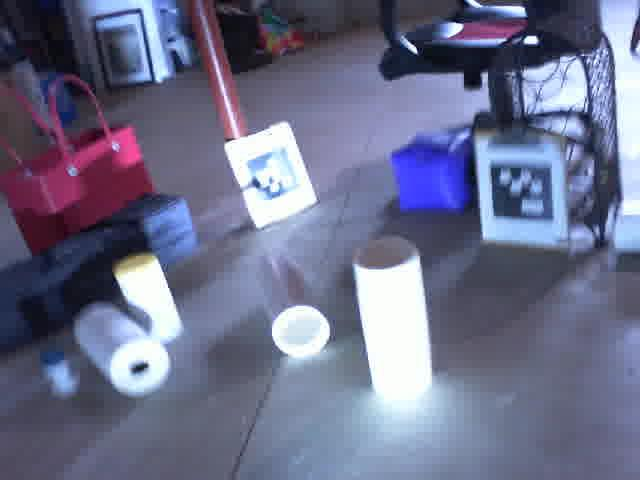coral: (354, 236, 433, 402), (254, 249, 329, 358), (115, 255, 182, 347)
